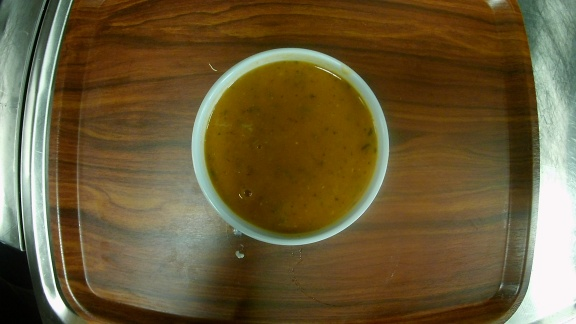ezogelin: (189, 47, 392, 247)
